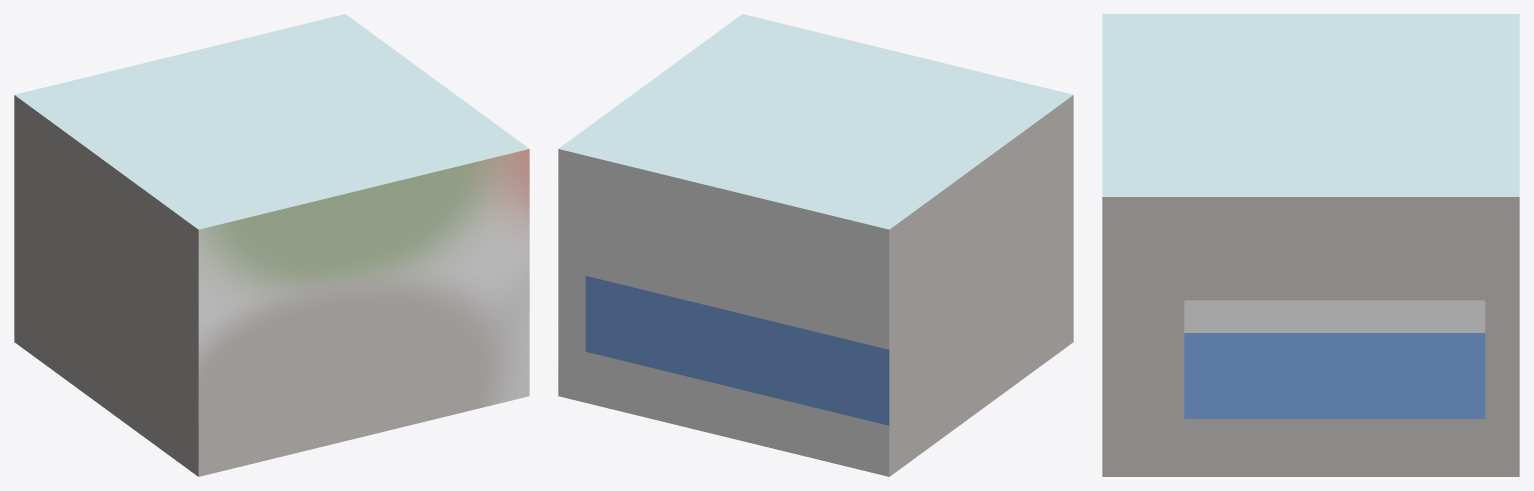
The model's file is tosyo.glb.
3 renders of one model, left to right at view 1: azimuth 30°, elevation 25°; view 2: azimuth 150°, elevation 25°; view 3: azimuth 270°, elevation 25°, orthographic. The views are drawn at different scales.
Visible parts, largest first — view 1: 図書室; view 2: 図書室; view 3: 図書室.
Part boxes in pixels (box(x1,y1,x2,y2)): 図書室: box(14, 14, 529, 476); 図書室: box(558, 14, 1073, 476); 図書室: box(1102, 14, 1519, 476).
Size of the model in its own units: 2.23 by 1.59 by 2.15.
1 material, 1 textured.
